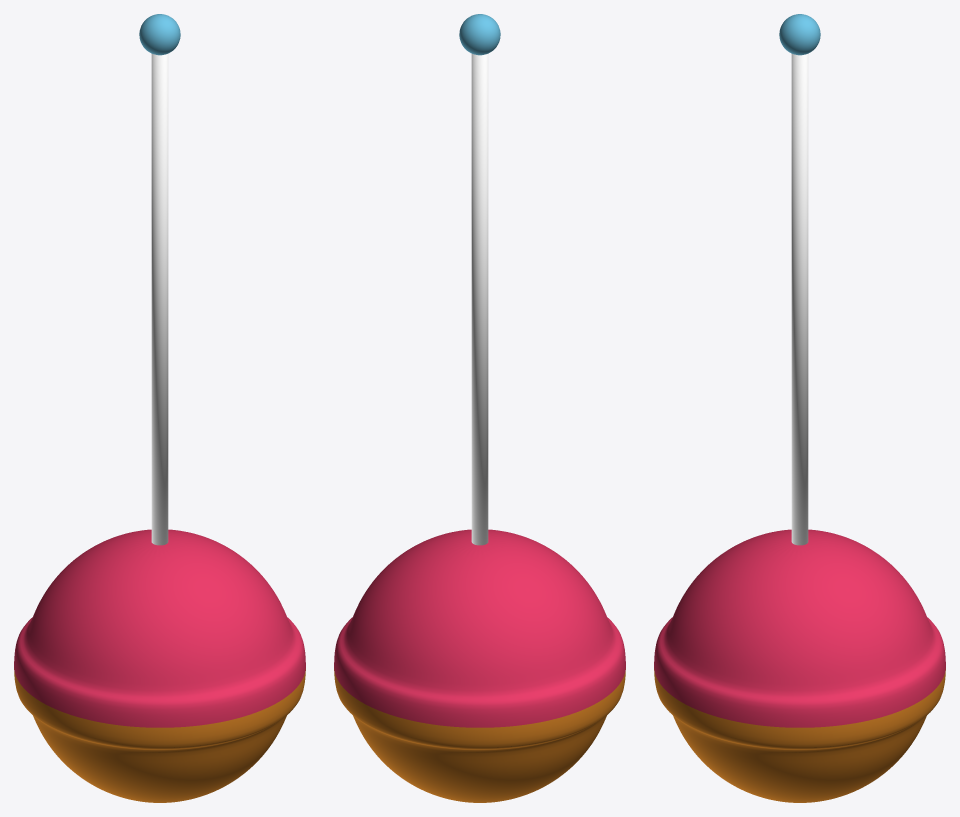
Rendered from lollipop.fbx.
3 renders of one model, left to right at view 1: azimuth 30°, elevation 25°; view 2: azimuth 150°, elevation 25°; view 3: azimuth 270°, elevation 25°, orthographic.
Parts seen in each view (by area): view 1: Lollipop, Stick, Pivot; view 2: Lollipop, Stick, Pivot; view 3: Lollipop, Stick, Pivot.
Boxes of the visible parts, bbox=[...] form: Lollipop: bbox=[14, 529, 305, 802]; Stick: bbox=[151, 54, 168, 545]; Pivot: bbox=[139, 14, 180, 55]; Lollipop: bbox=[334, 529, 625, 802]; Stick: bbox=[471, 54, 488, 545]; Pivot: bbox=[459, 14, 500, 55]; Lollipop: bbox=[654, 529, 945, 802]; Stick: bbox=[791, 54, 808, 545]; Pivot: bbox=[779, 14, 820, 55].
Bounding box in the file's own units: 212 × 620 × 212.
